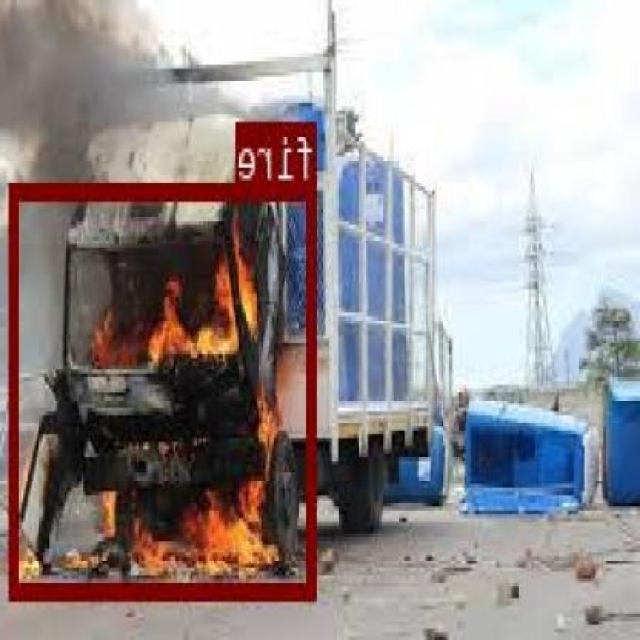Fire: (12, 180, 318, 597)
